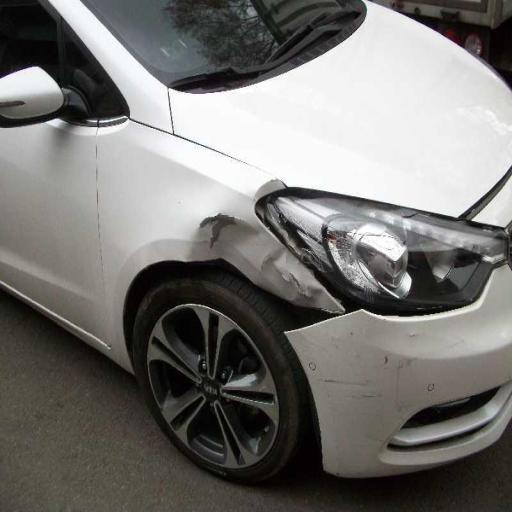broken: (171, 131, 484, 368)
